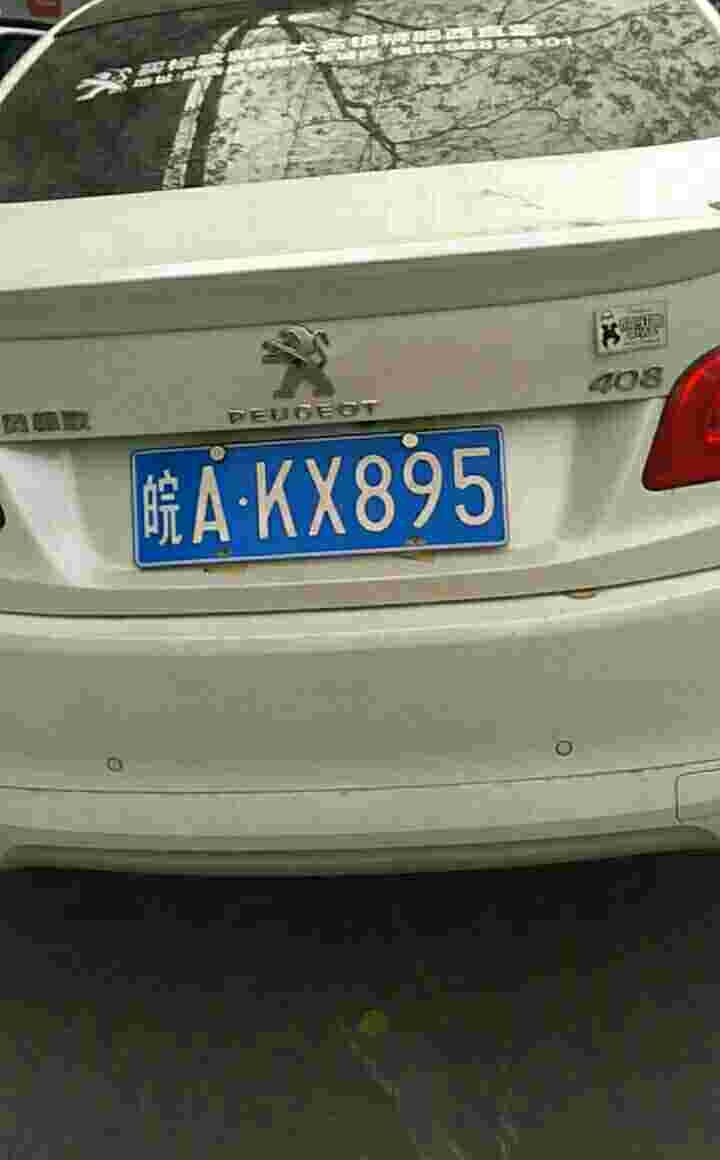car_blue: (122, 416, 525, 571)
